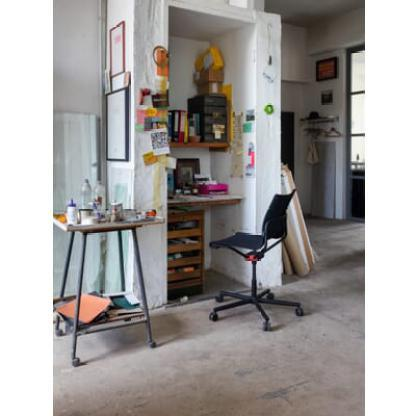chair: (205, 185, 313, 335)
door: (281, 112, 302, 170)
table: (54, 212, 162, 370), (168, 190, 250, 301)
